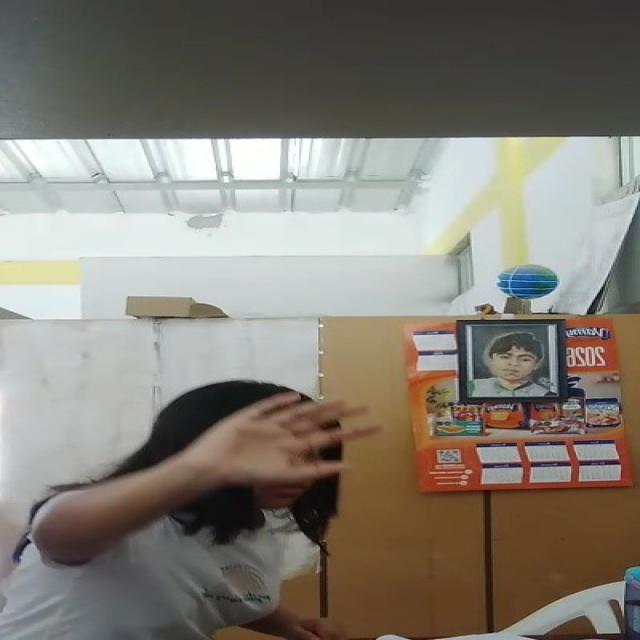7_mano_rostro: (195, 388, 342, 490)
